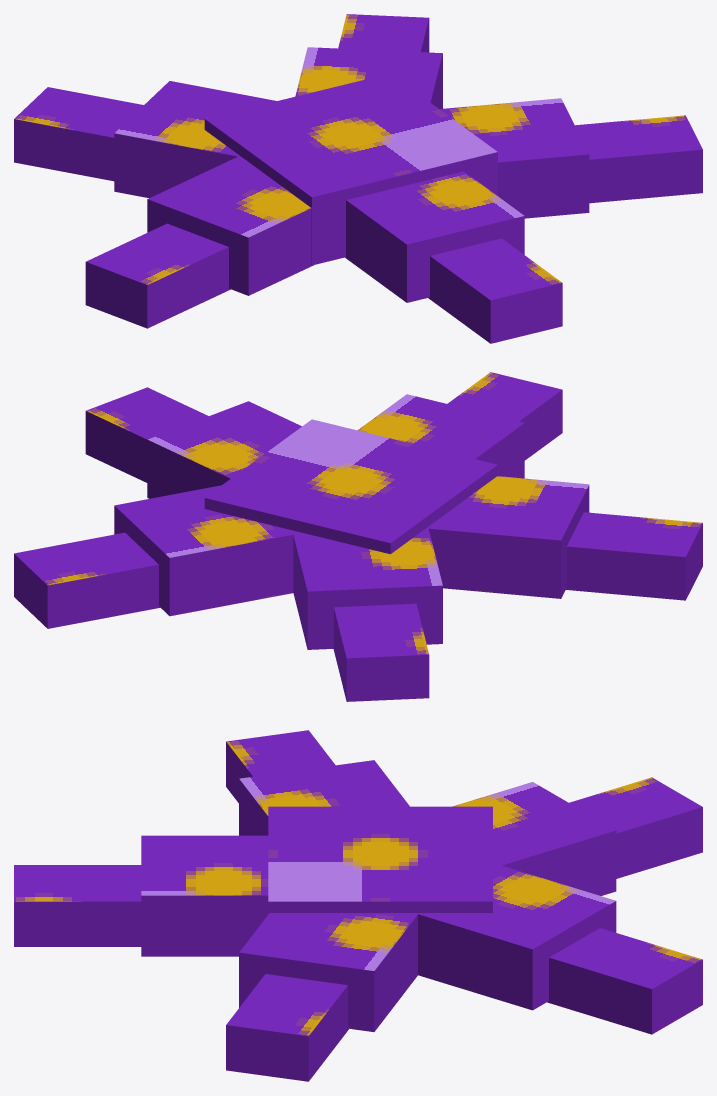
The model's file is starfish_amur.glb.
The picture shows the model from 3 angles, top to bottom: view 1: azimuth 30°, elevation 25°; view 2: azimuth 150°, elevation 25°; view 3: azimuth 270°, elevation 25°; orthographic projection. The views are drawn at different scales.
Visible parts, largest first — view 1: central_disc, arm_base_0, arm_base_4, arm_base_1, arm_tip_4, arm_base_3, arm_tip_0, arm_tip_1, arm_tip_3, arm_base_2, arm_tip_2; view 2: central_disc, arm_base_2, arm_base_4, arm_base_3, arm_tip_2, arm_tip_4, arm_base_1, arm_tip_3, arm_base_0, arm_tip_1, arm_tip_0; view 3: central_disc, arm_base_2, arm_base_0, arm_base_1, arm_tip_2, arm_tip_0, arm_base_3, arm_tip_1, arm_tip_3, arm_base_4, arm_tip_4.
Boxes of the visible parts, box(x1,y1,x2,y2) form: central_disc: box(204, 73, 497, 265); arm_base_0: box(345, 171, 524, 302); arm_base_4: box(147, 156, 313, 295); arm_base_1: box(439, 98, 589, 218); arm_tip_4: box(85, 223, 230, 328); arm_base_3: box(114, 81, 276, 198); arm_tip_0: box(428, 238, 562, 343); arm_tip_1: box(575, 115, 702, 203); arm_tip_3: box(14, 87, 143, 181); arm_base_2: box(295, 47, 442, 108); arm_tip_2: box(338, 14, 429, 52); central_disc: box(204, 419, 497, 554); arm_base_2: box(114, 485, 301, 616); arm_base_4: box(426, 476, 589, 598); arm_base_3: box(293, 528, 442, 649); arm_tip_2: box(14, 532, 160, 628); arm_tip_4: box(566, 512, 702, 600); arm_base_1: box(147, 401, 301, 498); arm_tip_3: box(333, 603, 429, 701); arm_base_0: box(357, 394, 524, 478); arm_tip_1: box(85, 387, 208, 482); arm_tip_0: box(447, 372, 562, 460); central_disc: box(268, 806, 492, 913); arm_base_2: box(418, 863, 616, 1010); arm_base_0: box(141, 835, 268, 956); arm_base_1: box(239, 913, 418, 1031); arm_tip_2: box(547, 928, 702, 1034); arm_tip_0: box(14, 865, 141, 946); arm_base_3: box(452, 782, 616, 895); arm_tip_1: box(226, 974, 348, 1081); arm_tip_3: box(569, 777, 702, 878); arm_base_4: box(239, 760, 409, 835); arm_tip_4: box(226, 730, 335, 802).
Bounding box in the file's own units: 0.6049 × 0.0688 × 0.5753.
Materials: 1 (1 with a texture image).
